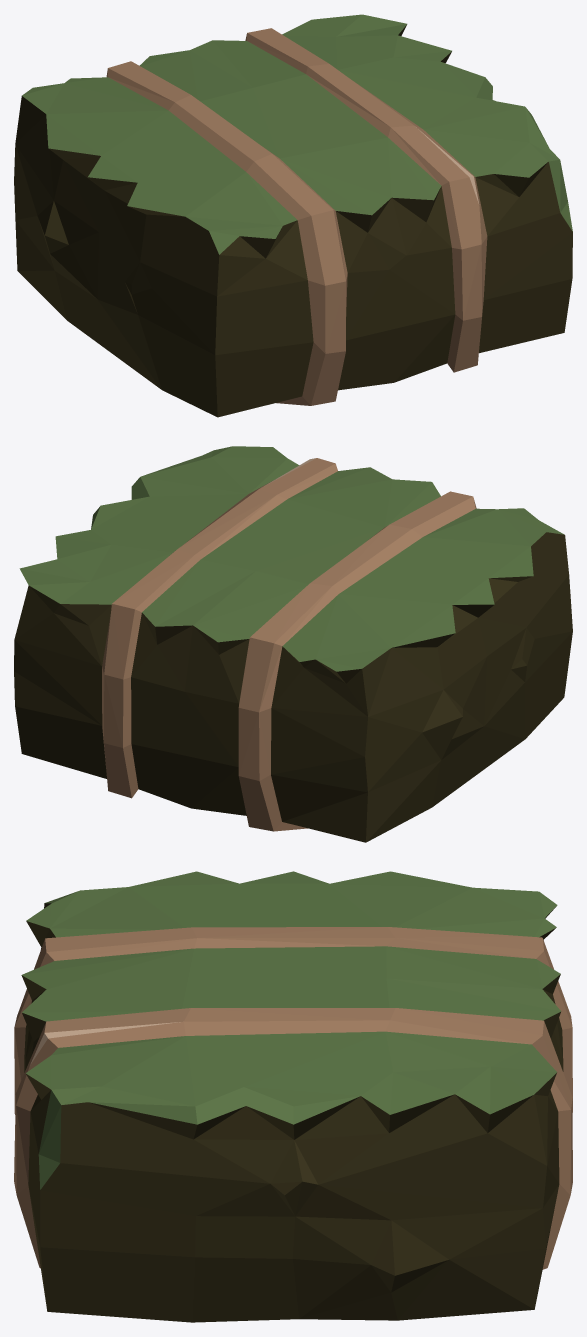
File: EA_M_HayBale_Square_Green_01c.fbx
3 renders of one model, top to bottom at view 1: azimuth 30°, elevation 25°; view 2: azimuth 150°, elevation 25°; view 3: azimuth 270°, elevation 25°, orthographic. The views are drawn at different scales.
Parts seen in each view (by area): view 1: EA_M_HayBale_Square_Green_01c_LOD0; view 2: EA_M_HayBale_Square_Green_01c_LOD0; view 3: EA_M_HayBale_Square_Green_01c_LOD0.
Boxes of the visible parts, x1,y1,x2,y2 form: EA_M_HayBale_Square_Green_01c_LOD0: (14, 14, 572, 417); EA_M_HayBale_Square_Green_01c_LOD0: (14, 446, 572, 842); EA_M_HayBale_Square_Green_01c_LOD0: (14, 871, 572, 1322).
Size of what is drawn, in the model's own units: 1.21 by 0.6056 by 1.15.
